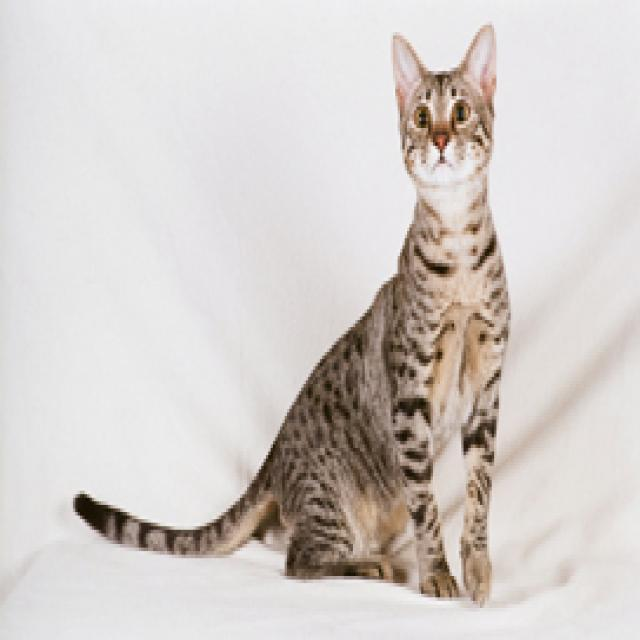Egyptian_Mau: (388, 18, 492, 181)
